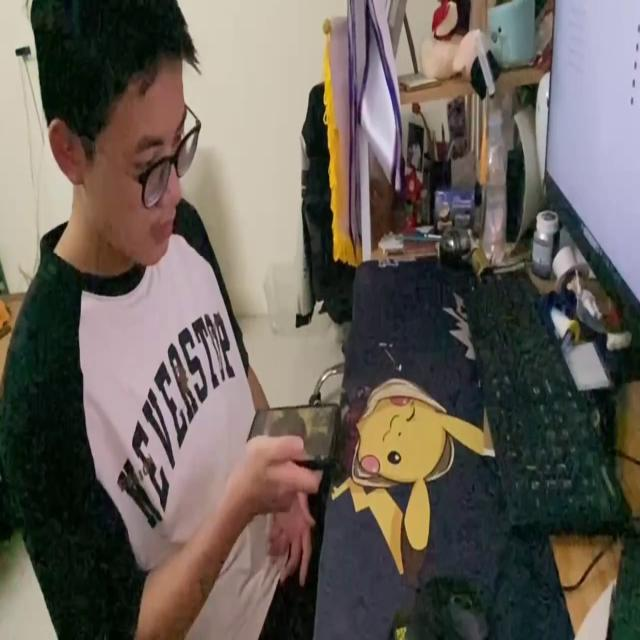laptop: (539, 0, 640, 335)
phone: (246, 399, 340, 466)
student: (2, 0, 316, 640)
